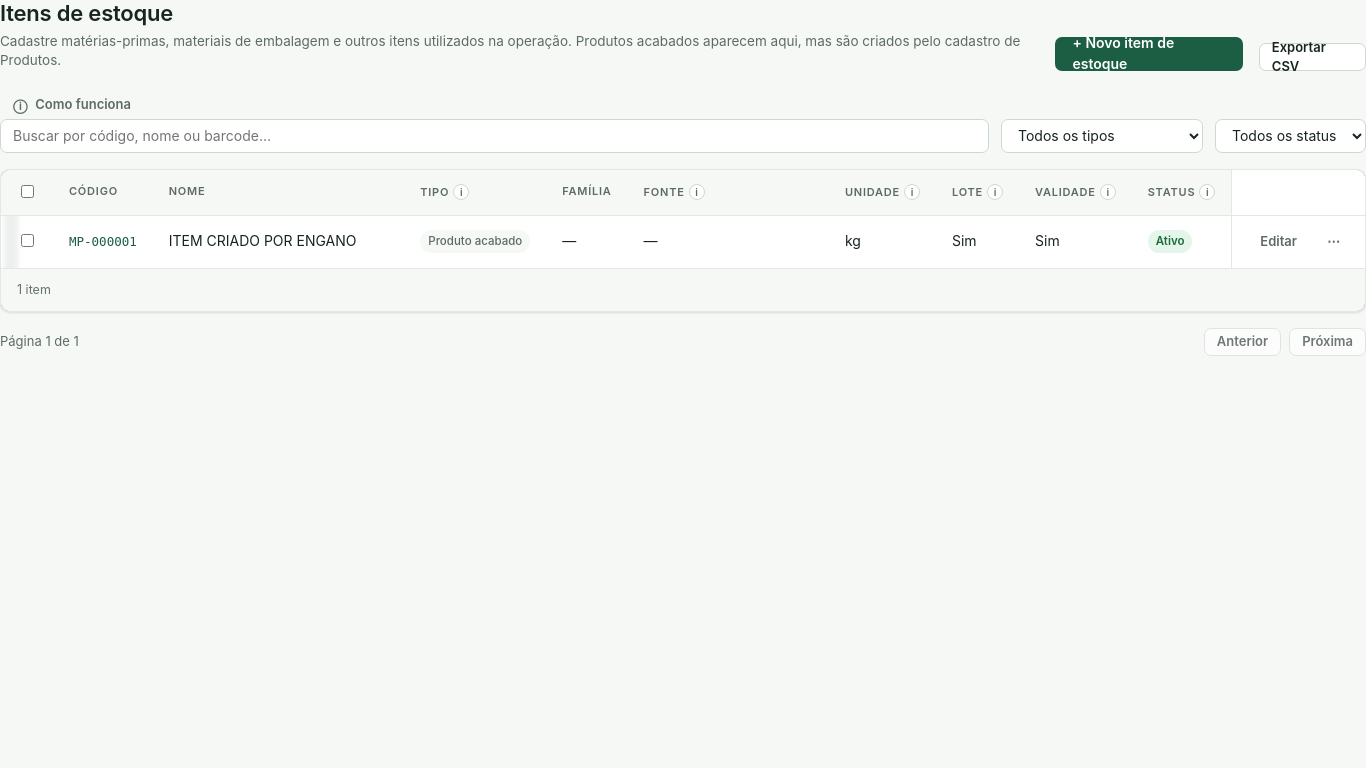
Administrador › PA pela tela de Itens: a prévia recusa e diz que ele só sai com o produto
This screenshot has width=1366, height=768.
expect the text "MP-000001" is shown: met, box x1=53 y1=215 x2=153 y2=268
What coordinates should you click on to do the following:
click the button named "Mais ações de MP-000001"
I would click on:
 (1334, 242)
Its box is x1=1318 y1=228 x2=1349 y2=256.
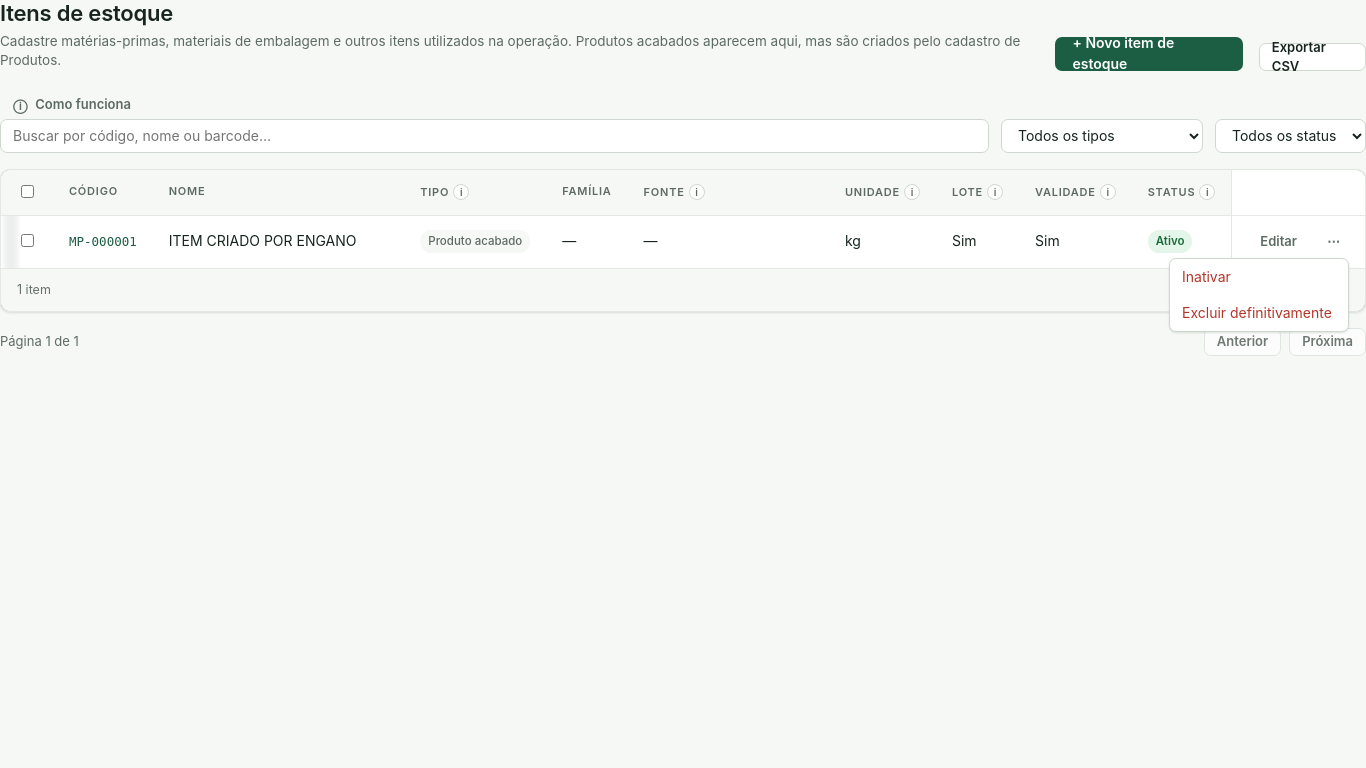
What coordinates should you click on to do the following:
click the menu item "Excluir definitivamente"
I would click on:
 (1259, 313)
Its box is x1=1170 y1=295 x2=1348 y2=331.
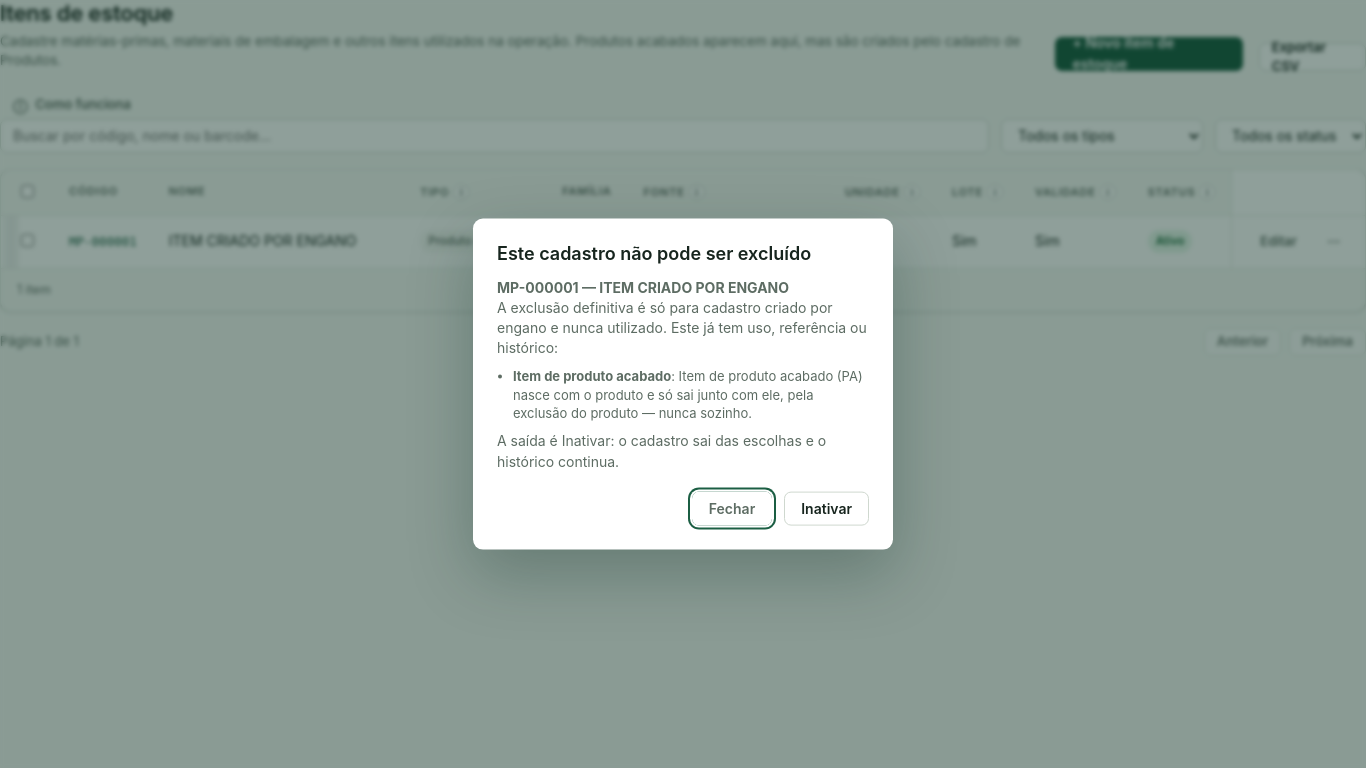
expect the list item "só sai junto com ele, pela exclusão do produto" is shown: met, box x1=513 y1=367 x2=863 y2=421
expect the menu item "Excluir definitivamente" is gone: met
